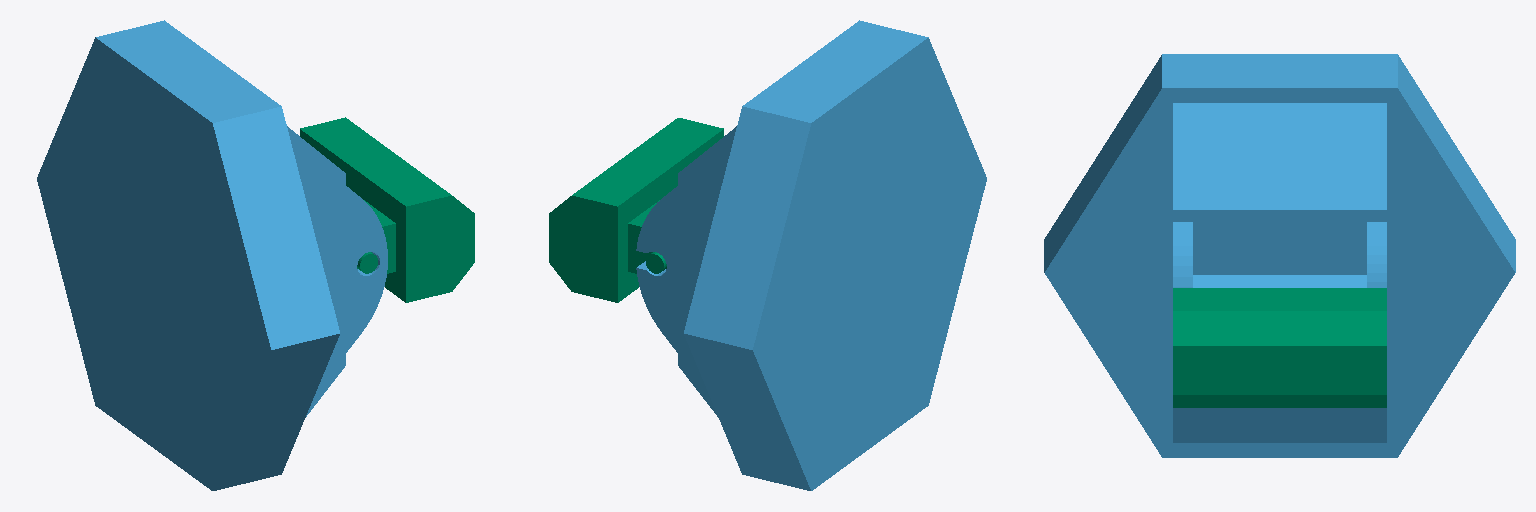
The robot description file, URDF, robot "Circuit_Breaker_Assembly":
<?xml version='1.0' encoding='utf-8'?>
<robot name="Circuit_Breaker_Assembly">
  <joint name="FixedJoint" type="fixed">
    <origin xyz="0. 0. 0." rpy="0. 0. 0." />
    <parent link="World" />
    <child link="body_pivot" />
  </joint>
  <joint name="RevoluteJoint" type="revolute">
    <origin xyz="0. 0. 0." rpy="0. 0. 0." />
    <parent link="body_pivot" />
    <child link="lever_pivot" />
    <axis xyz="0. 1. 0." />
    <limit lower="-0.5235988" upper="0.5235988" effort="100.0" velocity="10.0" />
  </joint>
  <link name="World"><inertial><origin xyz="0.000000 0.000000 0.000000" rpy="0 0 0" /><mass value="0.0500" /><inertia ixx="1e-05" ixy="0" ixz="0" iyy="1e-05" iyz="0" izz="1e-05" /></inertial></link>
  <link name="body_pivot">
    <inertial><origin xyz="0.000000 0.000000 0.019608" rpy="0 0 0" /><mass value="0.2636" /><inertia ixx="0.000161653" ixy="0" ixz="0" iyy="0.000204277" iyz="0" izz="0.000298367" /></inertial><visual>
      <origin xyz="-0.0350036 0. 0. " rpy="-1.5707964 0. -1.5707964" />
      <geometry>
        <mesh filename="meshes/tn__corpo1_dC_Corpo1_Mesh.obj" scale="1. 1. 1." />
      </geometry>
    </visual>
    <collision>
      <origin xyz="-0.0350036 0. 0. " rpy="-1.5707964 0. -1.5707964" />
      <geometry>
        <mesh filename="meshes/tn__corpo1_dC_Corpo1_Mesh.obj" scale="1. 1. 1." />
      </geometry>
    </collision>
  </link>
  <link name="lever_pivot">
    <inertial><origin xyz="0.020000 0.010000 -0.001500" rpy="0 0 0" /><mass value="0.0264" /><inertia ixx="3.2758e-06" ixy="0" ixz="0" iyy="5.9158e-06" iyz="0" izz="4.4e-06" /></inertial><visual>
      <origin xyz="0.0081193 0.0200116 0.0099949" rpy="-1.5707964 0. -1.5707964" />
      <geometry>
        <mesh filename="meshes/tn__Alavanca1_zH_Corpo1_Mesh.obj" scale="1. 1. 1." />
      </geometry>
    </visual>
    <collision>
      <origin xyz="0.0081193 0.0200116 0.0099949" rpy="-1.5707964 0. -1.5707964" />
      <geometry>
        <mesh filename="meshes/tn__Alavanca1_zH_Corpo1_Mesh.obj" scale="1. 1. 1." />
      </geometry>
    </collision>
  </link>
</robot>

--- Facts derived from the render (not from the file) ---
Views: 3 orthographic renders of the robot side by side, from view 1: azimuth 30°, elevation 25°; view 2: azimuth 150°, elevation 25°; view 3: azimuth 270°, elevation 25°.
Robot: Circuit_Breaker_Assembly — 3 links, 2 joints (1 revolute, 1 fixed); root link World; default pose: all joints at 0.
Visible links, largest first — view 1: body_pivot, lever_pivot; view 2: body_pivot, lever_pivot; view 3: body_pivot, lever_pivot.
Link boxes in pixels (left/top/right/bottom): body_pivot: left=37, top=20, right=387, bottom=490; lever_pivot: left=300, top=117, right=474, bottom=302; body_pivot: left=636, top=20, right=986, bottom=490; lever_pivot: left=549, top=118, right=723, bottom=302; body_pivot: left=1044, top=54, right=1515, bottom=457; lever_pivot: left=1173, top=288, right=1386, bottom=407.
Size in the robot's own frame: 0.0581 by 0.0881 by 0.0763 metres.
2 mesh visuals loaded from 2 distinct referenced files (2 OBJ).
